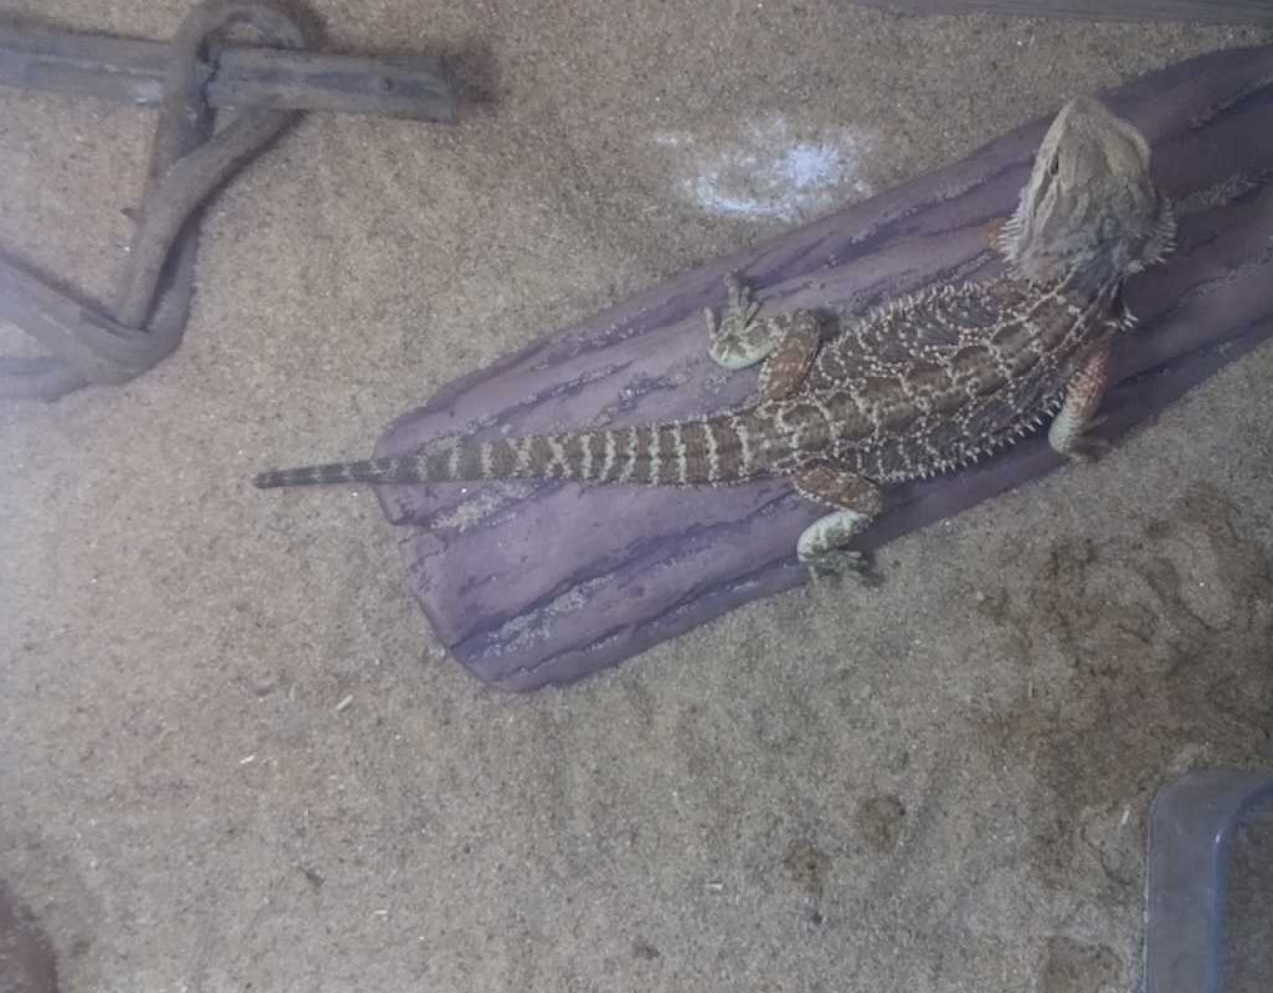bearded: (253, 93, 1181, 595)
